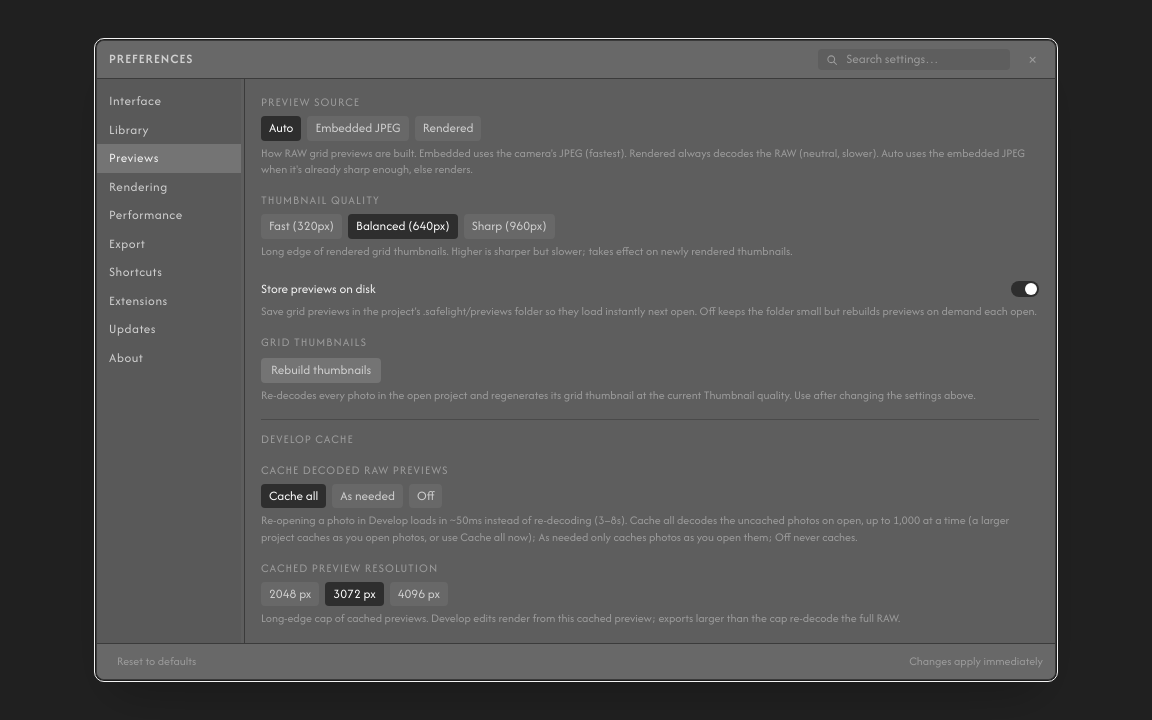
Test case: Preferences ▸ Previews, across a project switch › puts Rebuild thumbnails back to idle as soon as the project is left, and keeps it there
This screenshot has width=1152, height=720.
Click the button "Rebuild thumbnails". click: (321, 370)
box: x1=261 y1=358 x2=381 y2=382
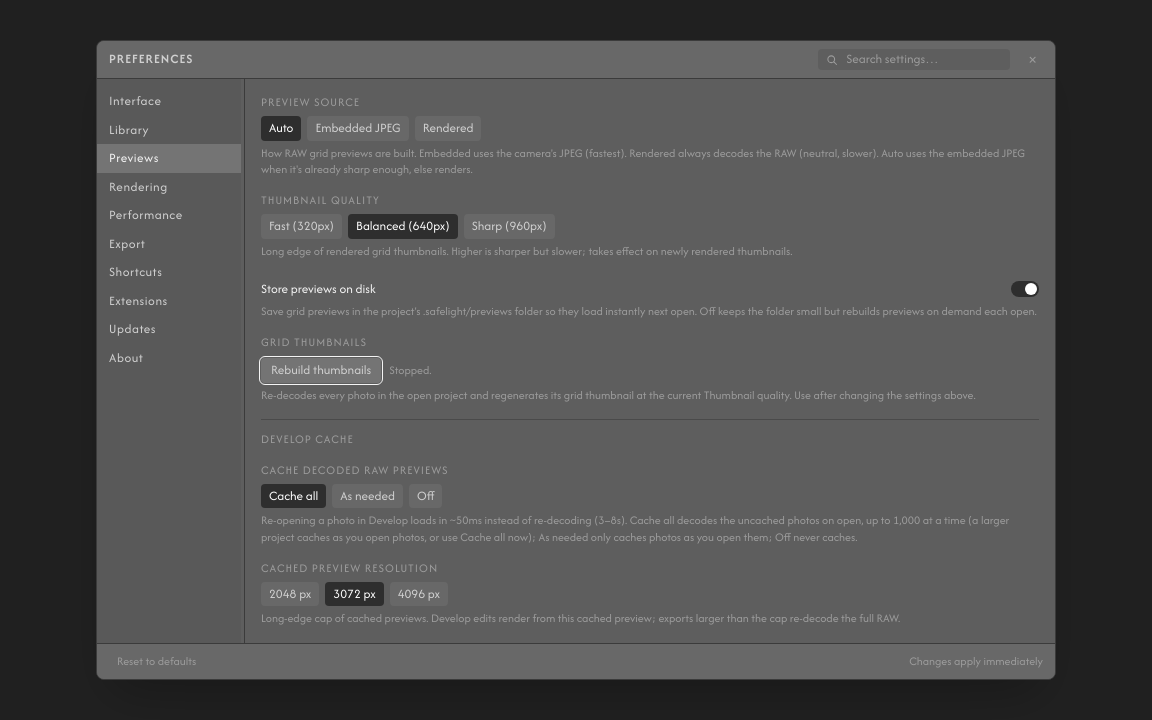
Now the text "Stopped." is shown, box x1=389 y1=362 x2=432 y2=378
